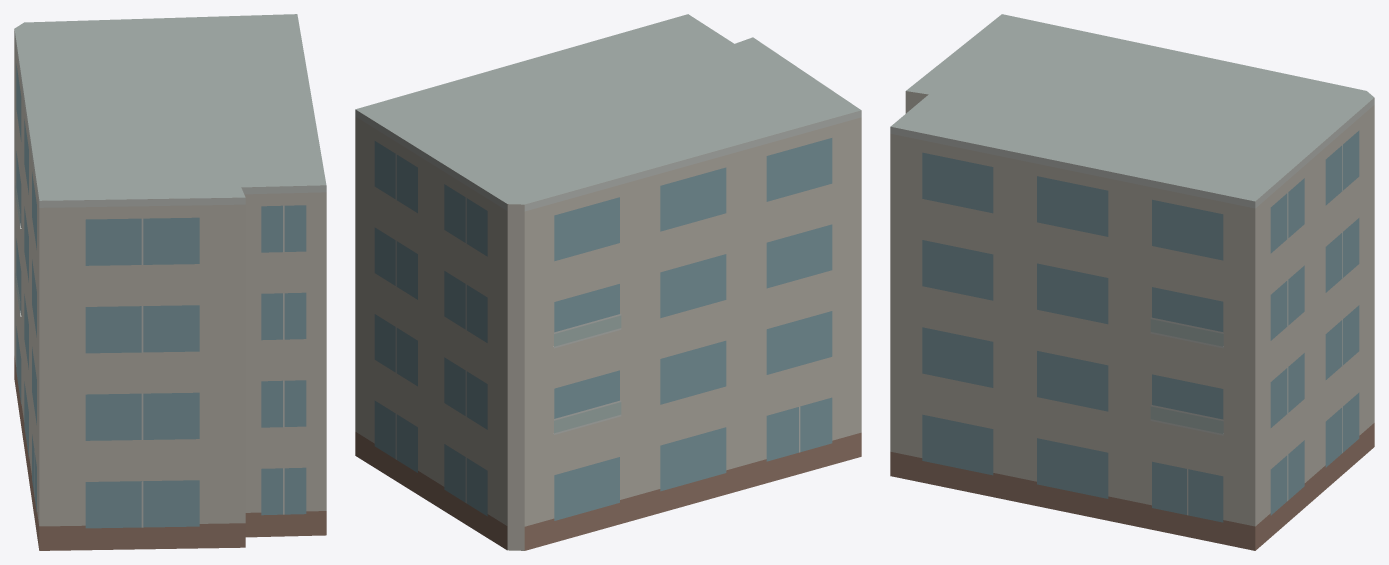
File: survey-upis-32937886.glb
The picture shows the model from 3 angles, left to right: view 1: azimuth 30°, elevation 25°; view 2: azimuth 150°, elevation 25°; view 3: azimuth 270°, elevation 25°; orthographic projection.
Visible parts, largest first — view 1: survey-upis-32937886.tmp; view 2: survey-upis-32937886.tmp; view 3: survey-upis-32937886.tmp.
Boxes of the visible parts, box(x1,y1,x2,y2) form: survey-upis-32937886.tmp: box(14, 14, 326, 550); survey-upis-32937886.tmp: box(355, 14, 861, 550); survey-upis-32937886.tmp: box(890, 14, 1374, 550).
Bounding box in the file's own units: 13.93 × 12.1 × 15.2.
